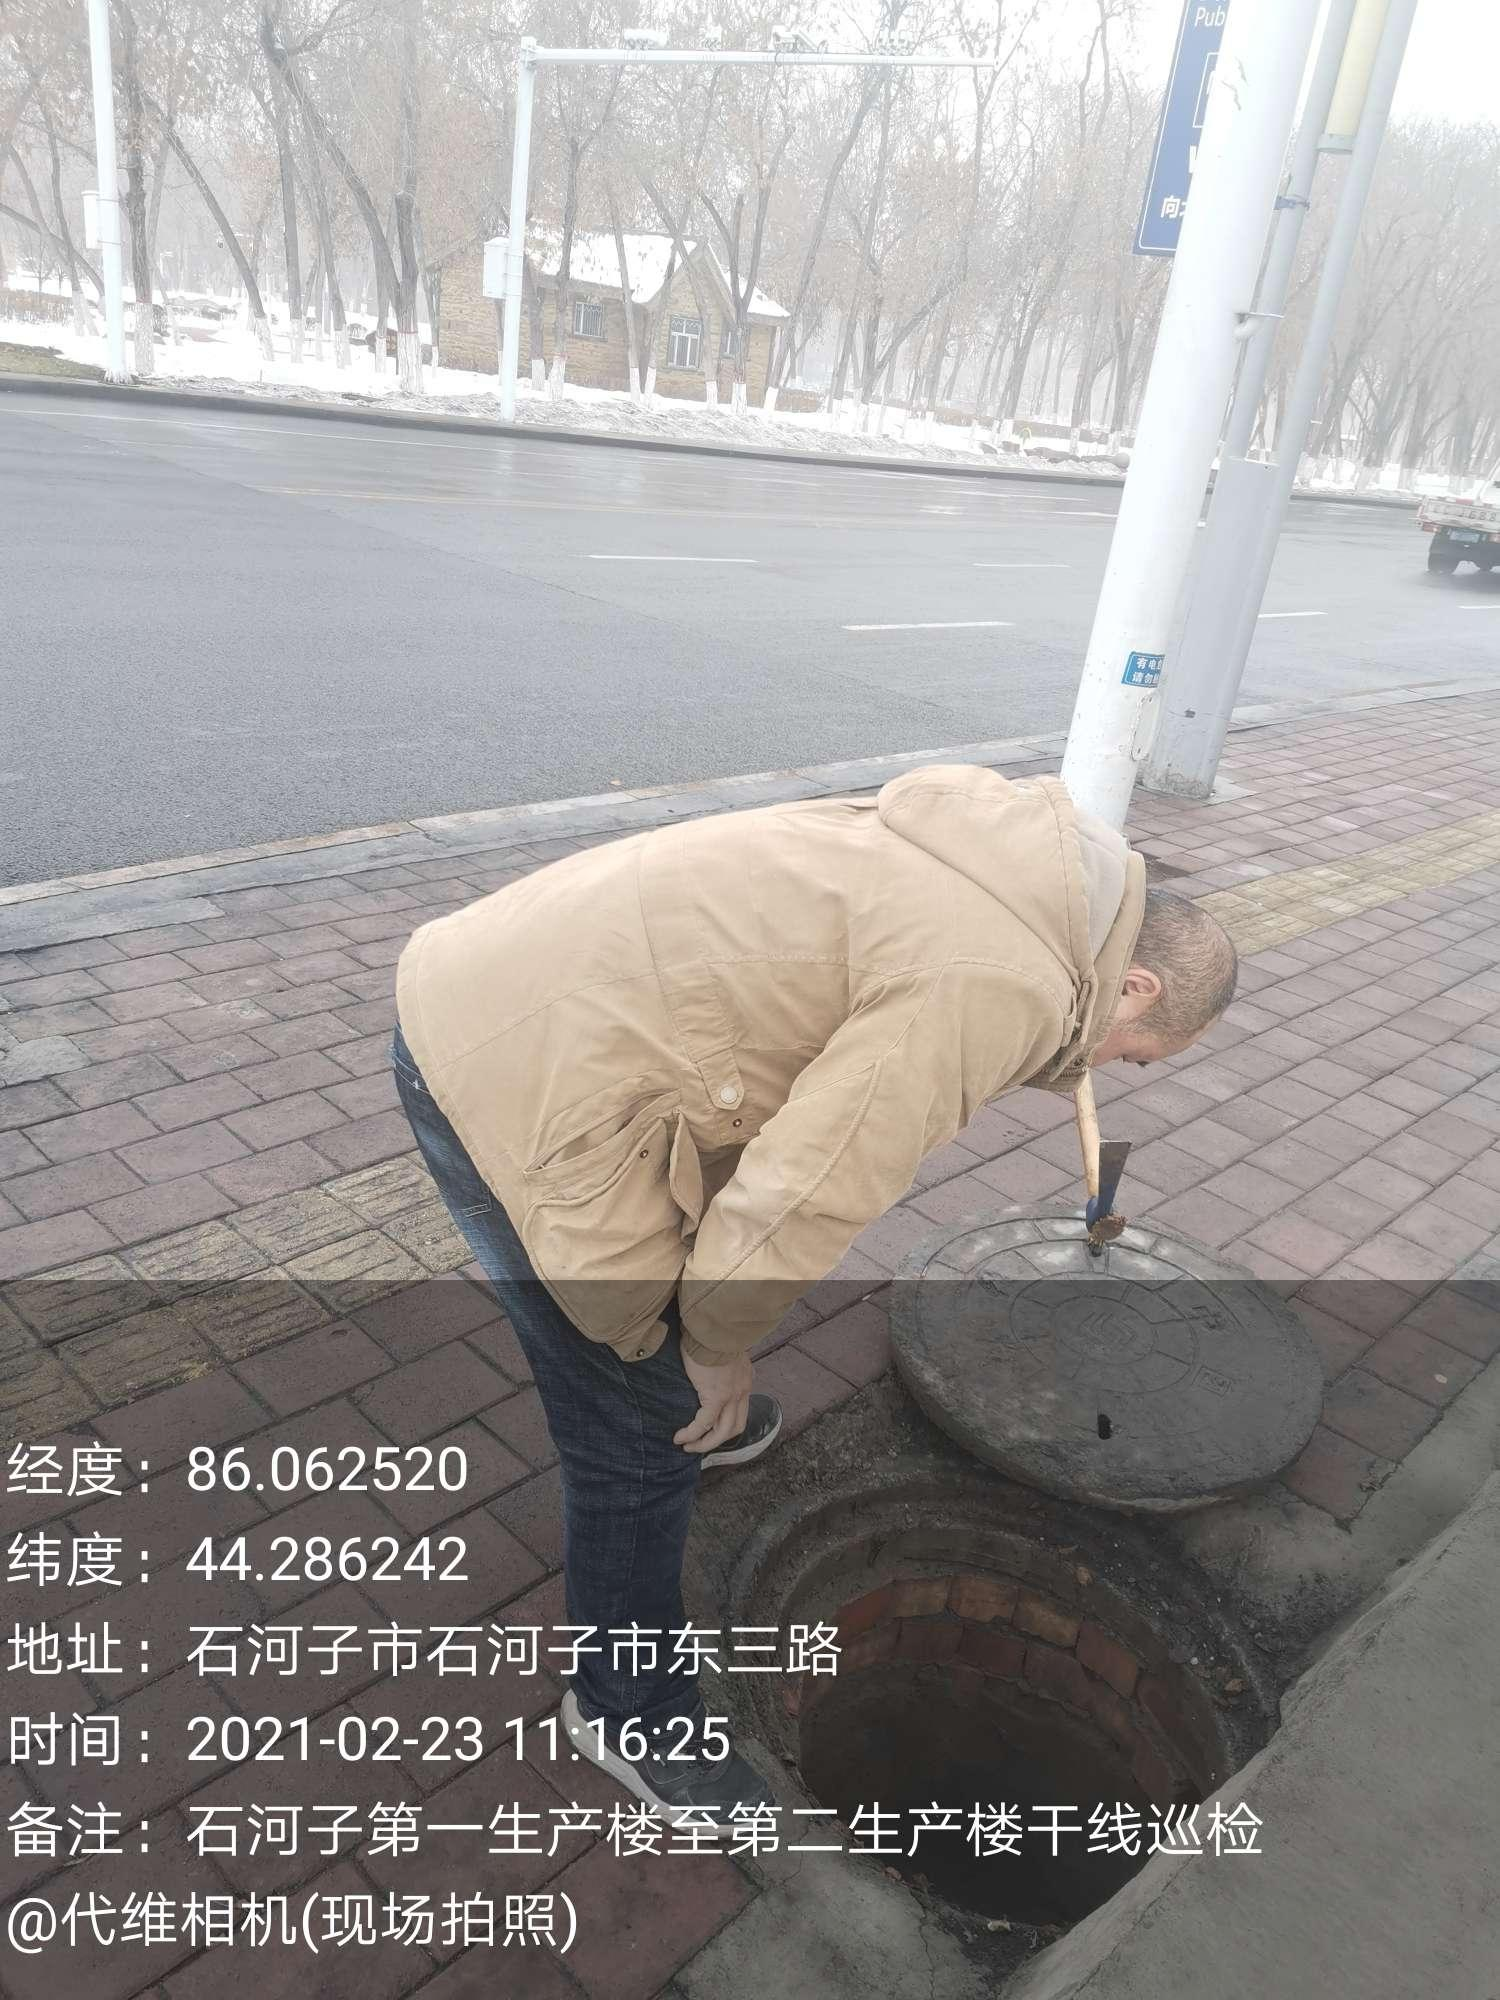wellcover: (722, 1162, 1333, 1929)
